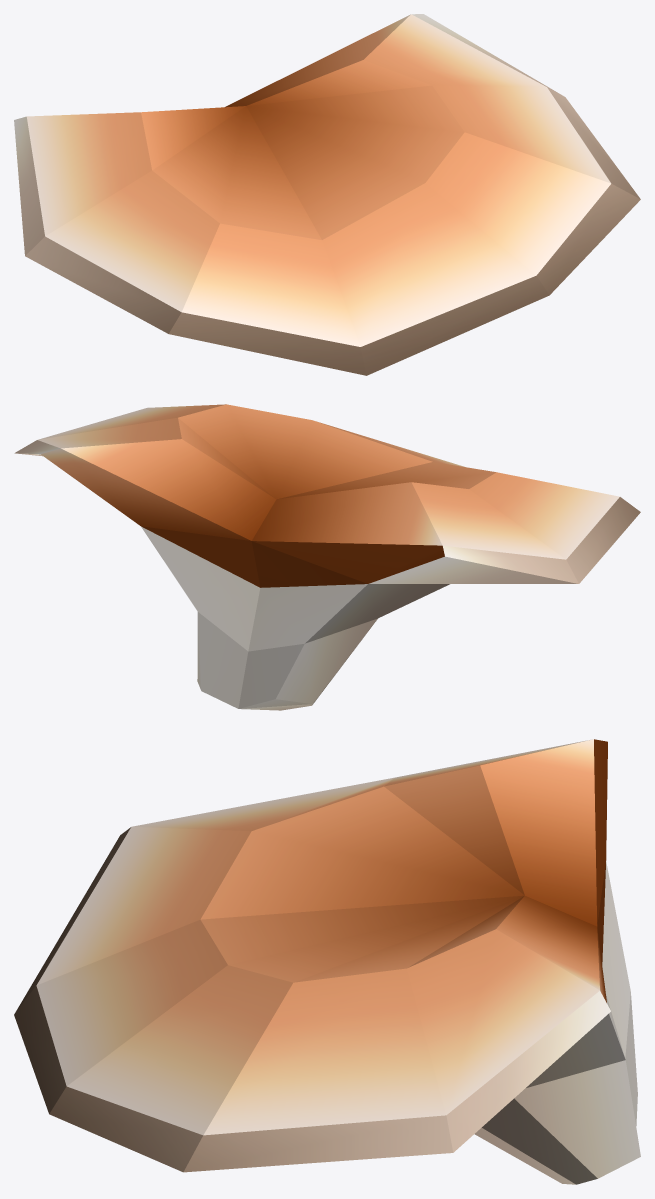
Rendered from Tree_Mushroom-02.fbx.
3 renders of one model, top to bottom at view 1: azimuth 30°, elevation 25°; view 2: azimuth 150°, elevation 25°; view 3: azimuth 270°, elevation 25°, orthographic. The views are drawn at different scales.
Visible parts, largest first — view 1: Tree_Mushroom-02; view 2: Tree_Mushroom-02; view 3: Tree_Mushroom-02.
Part boxes in pixels (box(x1,y1,x2,y2)): Tree_Mushroom-02: box(14, 14, 640, 375); Tree_Mushroom-02: box(14, 404, 640, 710); Tree_Mushroom-02: box(14, 739, 640, 1184).
Bounding box in the file's own units: 81.51 × 33.26 × 57.57.
1 material, 1 textured.
